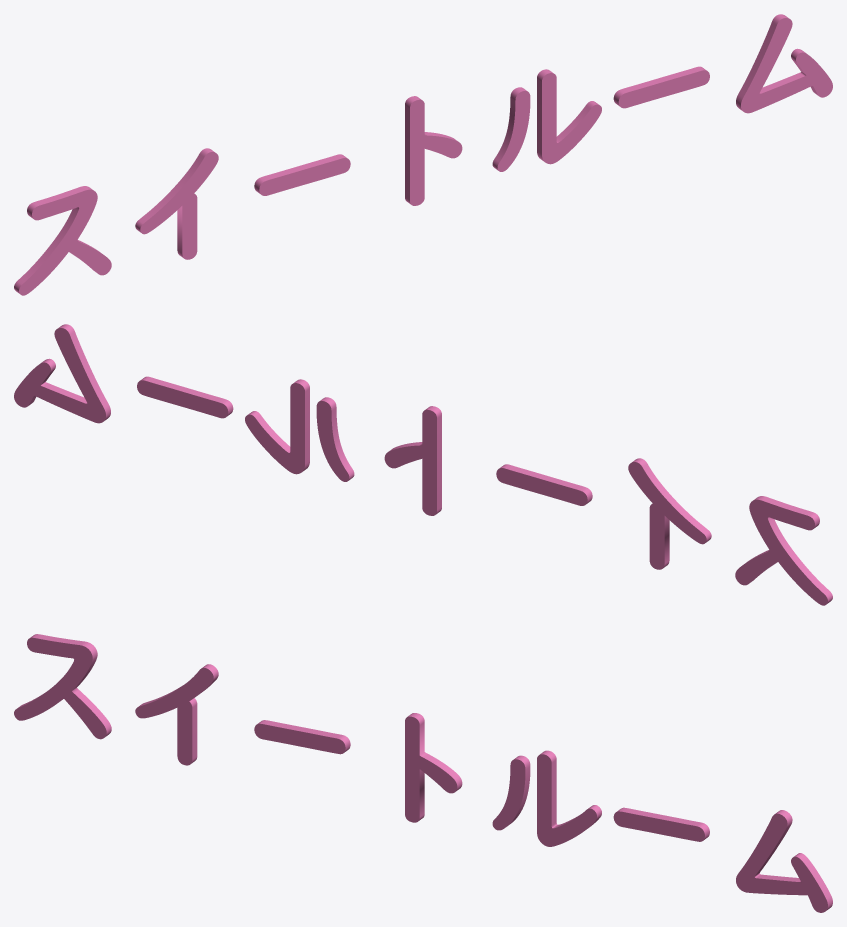
Rendered from title_sweetLoom.fbx.
3 views of the same model, one above another, from view 1: azimuth 30°, elevation 25°; view 2: azimuth 150°, elevation 25°; view 3: azimuth 330°, elevation 25° (orthographic).
Parts seen in each view (by area): view 1: テキスト; view 2: テキスト; view 3: テキスト.
Part boxes in pixels (left/top/right/bottom): テキスト: left=14, top=14, right=832, bottom=295; テキスト: left=14, top=324, right=832, bottom=605; テキスト: left=14, top=634, right=832, bottom=912.
Size of the model in its own units: 564 by 69.83 by 6.
